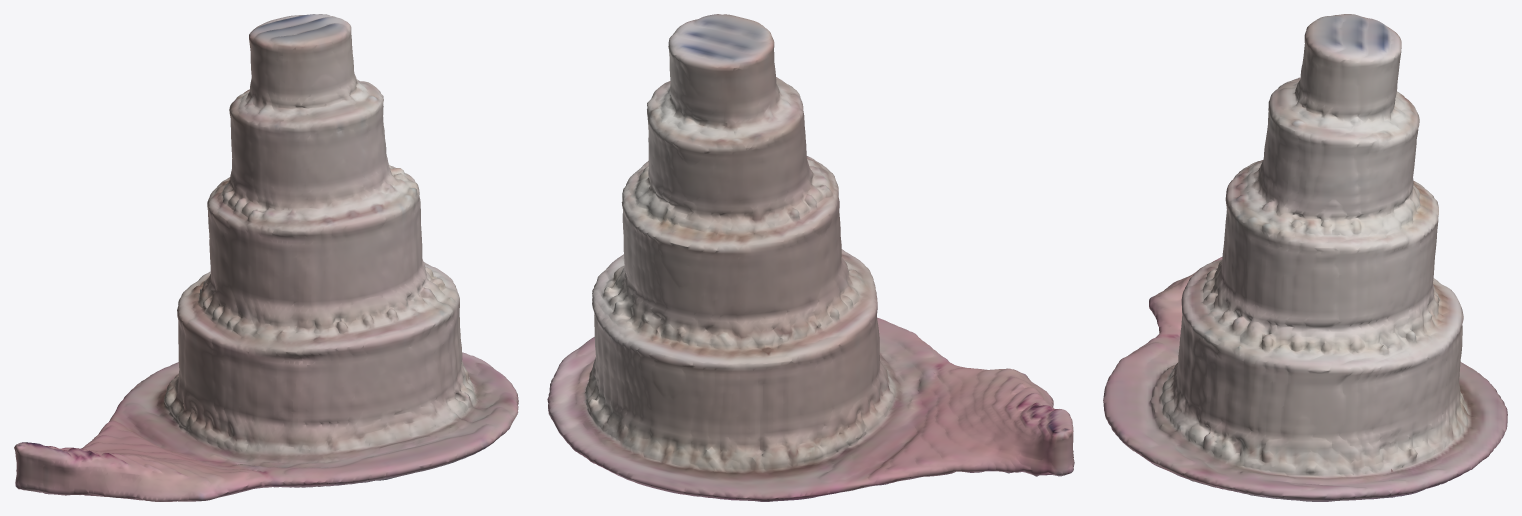
The model's file is chronos_cake.glb.
3 views of the same model, side by side, from view 1: azimuth 30°, elevation 25°; view 2: azimuth 150°, elevation 25°; view 3: azimuth 270°, elevation 25° (orthographic). The views are drawn at different scales.
Parts seen in each view (by area): view 1: chronos_mesh; view 2: chronos_mesh; view 3: chronos_mesh.
Boxes of the visible parts, bbox=[...] form: chronos_mesh: bbox=[14, 14, 518, 501]; chronos_mesh: bbox=[547, 14, 1074, 501]; chronos_mesh: bbox=[1103, 14, 1507, 501].
Bounding box in the file's own units: 1.35 × 1.04 × 0.95.
